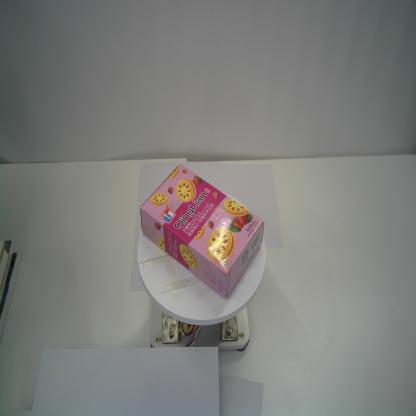Dessert: (139, 161, 265, 299)
